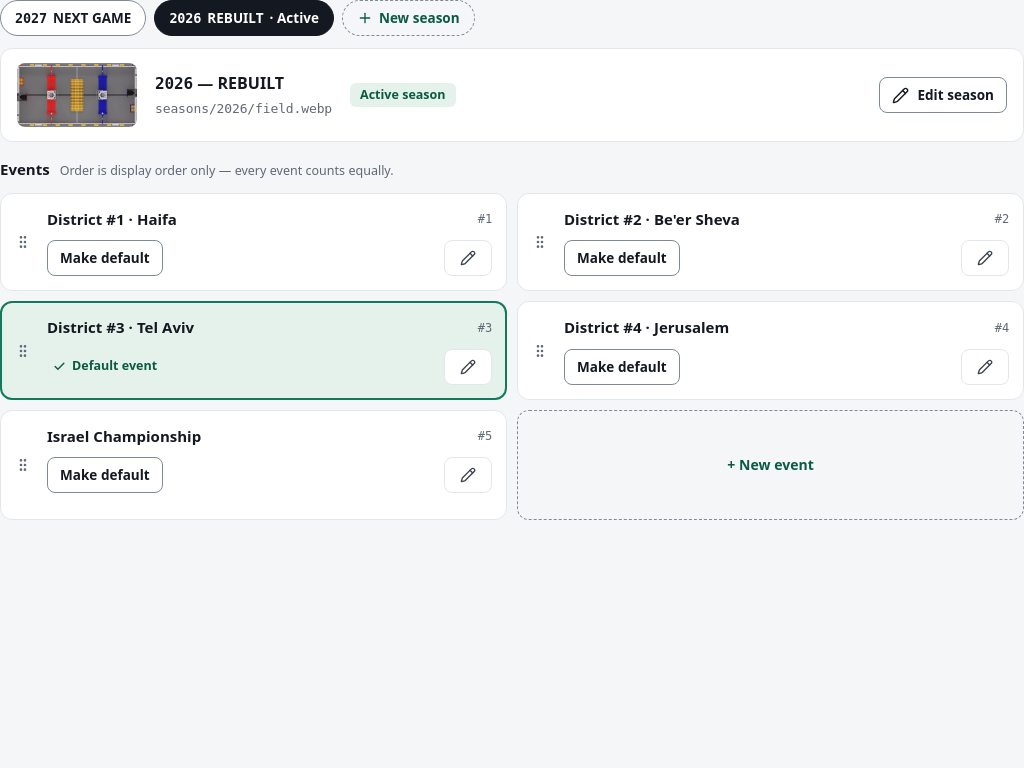
Scenario: CompetitionsPanel — events › renames an event
Click the button named "Rename District #1 · Haifa" at (468, 258), box [444,240,492,276]
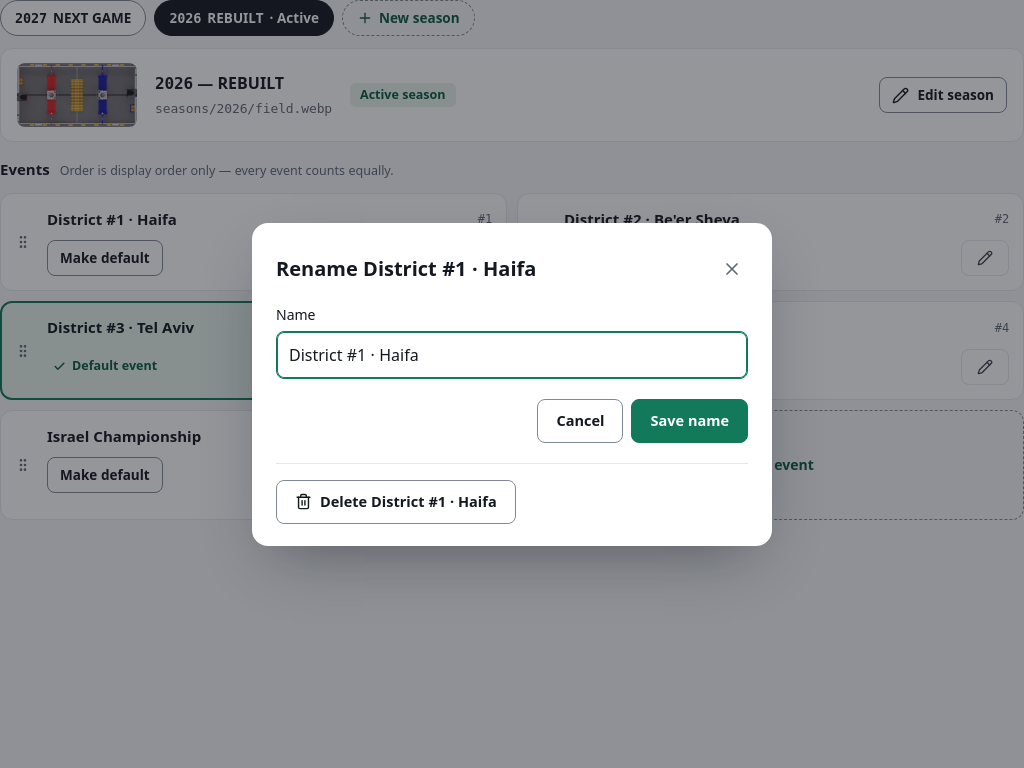
Replace the text in the field labelled "Name" with "Haifa (renamed)" at (512, 354), box [276,330,748,378]
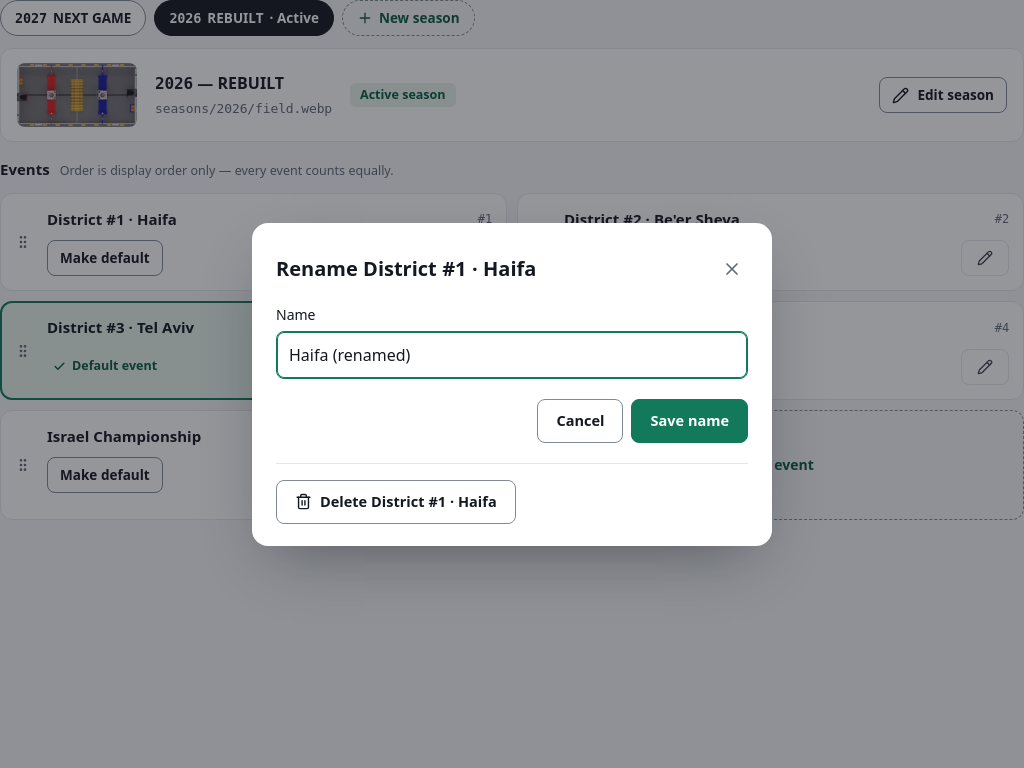
Click the button "Save name" at (690, 420), box [631,398,748,442]
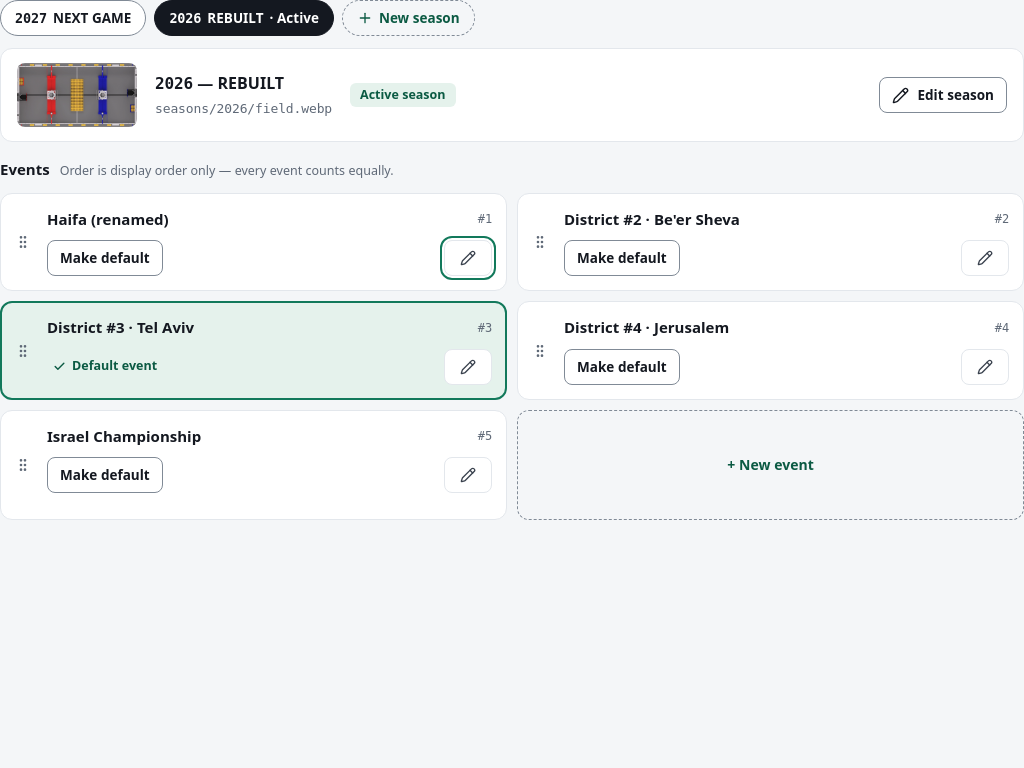
Now the heading "Haifa (renamed)" is shown, box [47,208,169,230]
